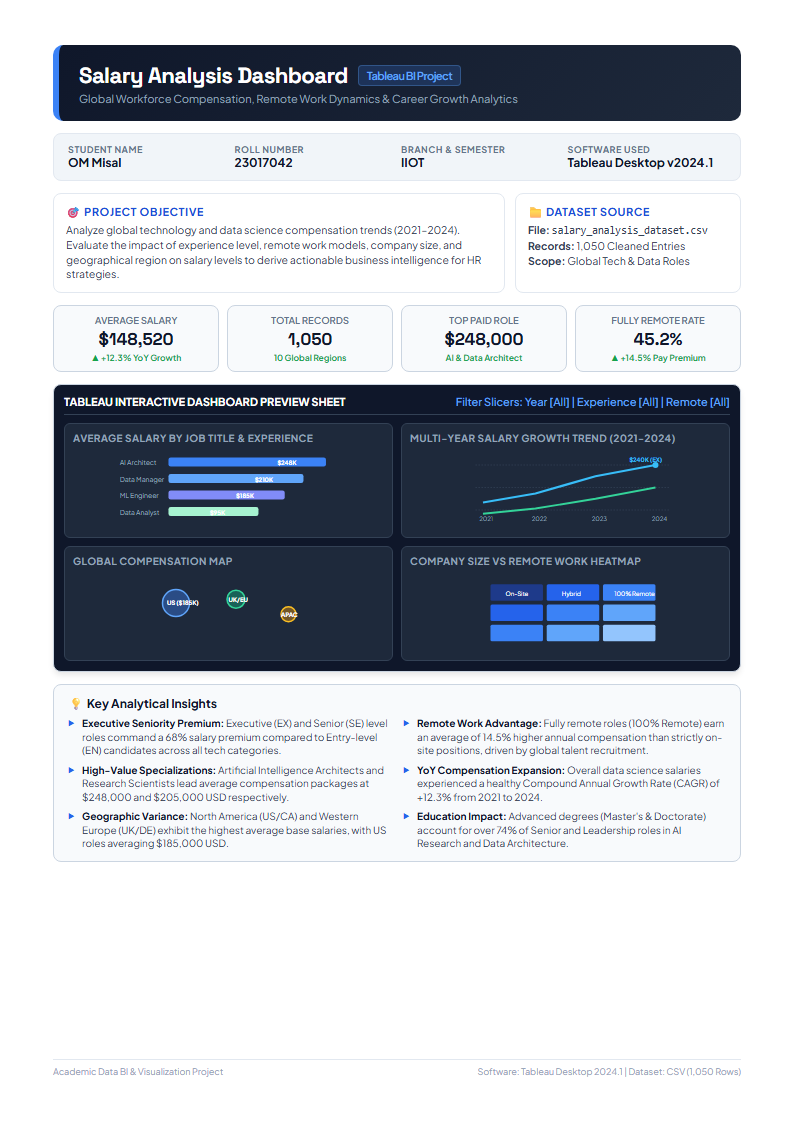

The dashboard page shown, as its layout file describes it:
{"tool":"tableau","page":{"name":"Salary Analysis Dashboard","canvas":[1920,1080],"ordinal":0},"visuals":[{"type":"worksheet","box":[0,0,1920,1080]},{"type":"worksheet","title":"Title","box":[0,0,1920,101.5]},{"type":"worksheet","box":[0,101.5,1920,194.4]},{"type":"worksheet","title":"KPI_Avg_Salary","box":[0,101.5,480,194.4]},{"type":"worksheet","title":"KPI_Total_Employees","box":[480,101.5,480,194.4]},{"type":"worksheet","title":"KPI_Top_Paying_Role","box":[960,101.5,480,194.4]},{"type":"worksheet","title":"KPI_Remote_Work_Pct","box":[1440,101.5,480,194.4]},{"type":"worksheet","box":[0,295.9,1920,388.8]},{"type":"worksheet","title":"Bar_Salary_by_Title_Exp","box":[0,295.9,960,388.8]},{"type":"worksheet","title":"Line_Salary_Trend","box":[960,295.9,960,388.8]},{"type":"worksheet","box":[0,684.7,1920,388.8]},{"type":"worksheet","title":"Map_Global_Salary","box":[0,684.7,640,388.8]},{"type":"worksheet","title":"Heatmap_Remote_CompanySize","box":[640,684.7,640,388.8]},{"type":"worksheet","title":"Donut_Education_Dept","box":[1280,684.7,640,388.8]}]}

Visuals, with their boxes on the page's 1920x1080 design canvas (x1, y1, x2, y2). These are canvas units, not pixel positions in the 794x1123 screenshot, which may show the page scaled, cropped or inside an application window:
worksheet: (0, 0, 1920, 1080)
"Title" worksheet: (0, 0, 1920, 102)
worksheet: (0, 102, 1920, 296)
"KPI_Avg_Salary" worksheet: (0, 102, 480, 296)
"KPI_Total_Employees" worksheet: (480, 102, 960, 296)
"KPI_Top_Paying_Role" worksheet: (960, 102, 1440, 296)
"KPI_Remote_Work_Pct" worksheet: (1440, 102, 1920, 296)
worksheet: (0, 296, 1920, 685)
"Bar_Salary_by_Title_Exp" worksheet: (0, 296, 960, 685)
"Line_Salary_Trend" worksheet: (960, 296, 1920, 685)
worksheet: (0, 685, 1920, 1074)
"Map_Global_Salary" worksheet: (0, 685, 640, 1074)
"Heatmap_Remote_CompanySize" worksheet: (640, 685, 1280, 1074)
"Donut_Education_Dept" worksheet: (1280, 685, 1920, 1074)
